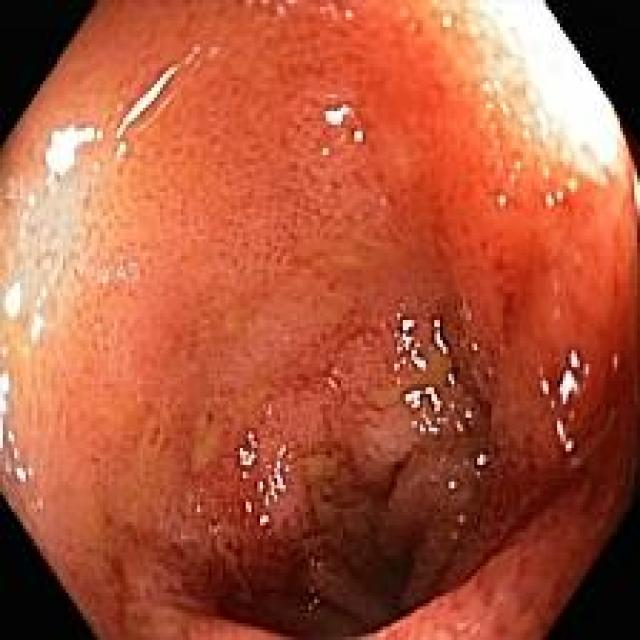ulcerative-colitis-grade-2-3: (0, 3, 640, 640)
